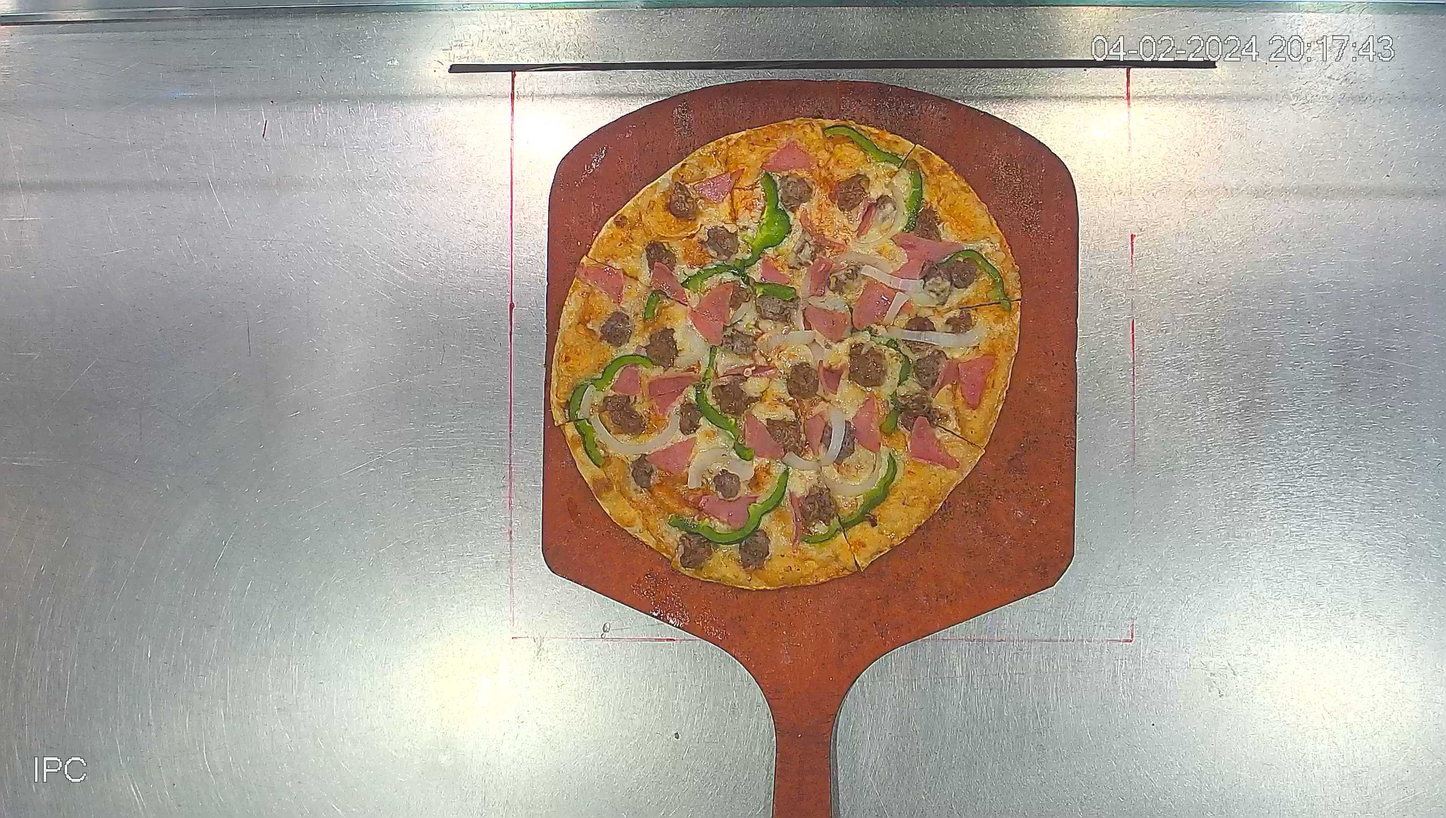hawaiian: (549, 117, 1024, 589)
